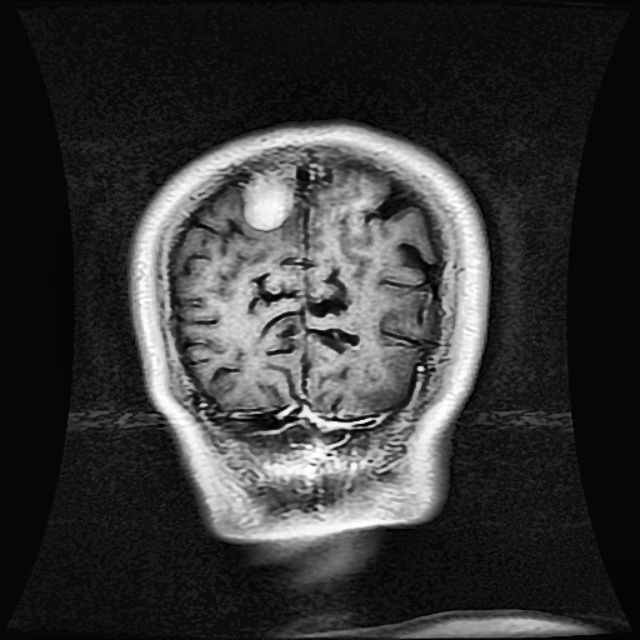Glioma: (244, 163, 295, 229)
